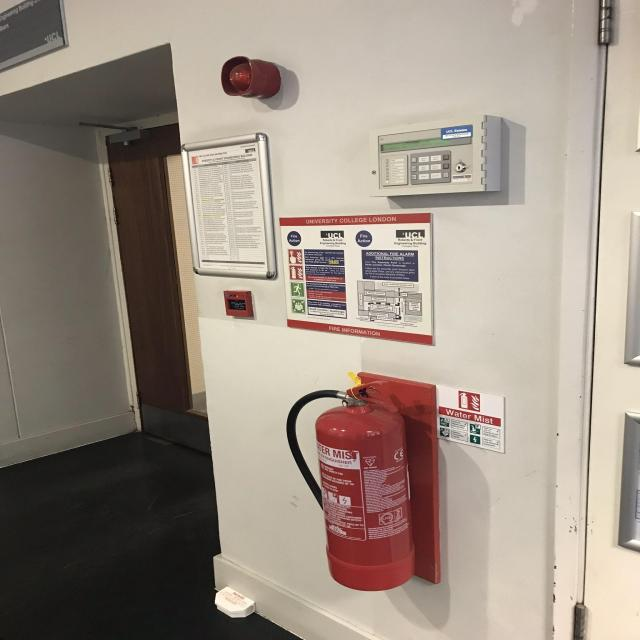fire_extinguisher: (282, 376, 422, 592)
